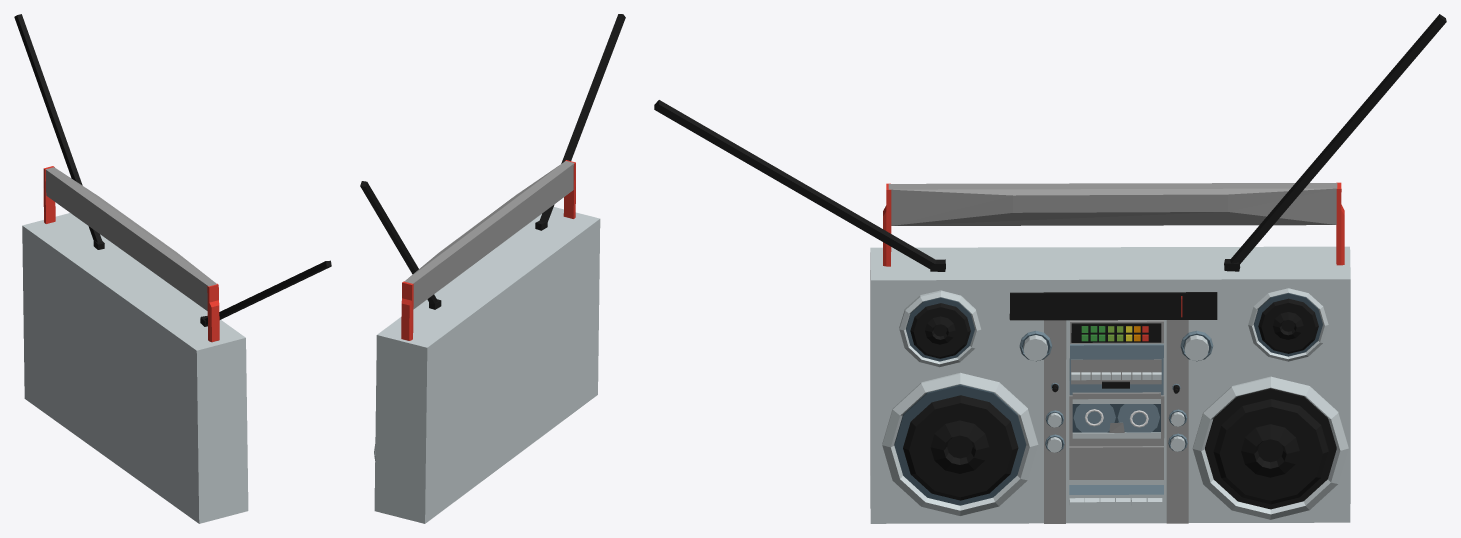
File: Boombox.glb
3 views of the same model, side by side, from view 1: azimuth 30°, elevation 25°; view 2: azimuth 150°, elevation 25°; view 3: azimuth 270°, elevation 25° (orthographic). The views are drawn at different scales.
Parts seen in each view (by area): view 1: group1311925561; view 2: group1311925561; view 3: group1311925561.
Boxes of the visible parts, bbox=[...] form: group1311925561: bbox=[14, 14, 331, 523]; group1311925561: bbox=[360, 14, 625, 523]; group1311925561: bbox=[654, 14, 1446, 523].
Size of the model in its own units: 0.5303 by 2.68 by 3.91.
